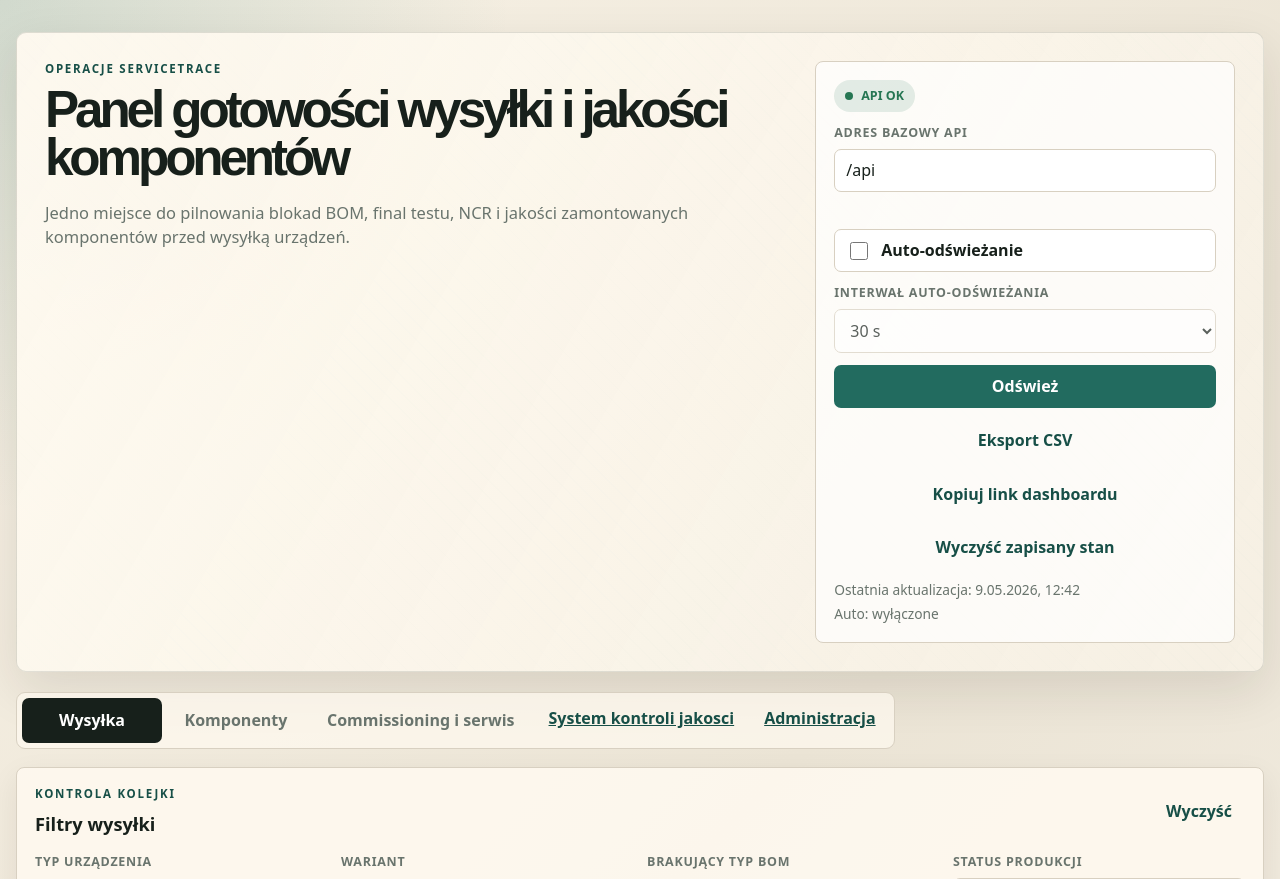
Test: App › exports the active shipment queue to CSV
Click the button "Eksport CSV": (1025, 441) [834,420,1216,462]
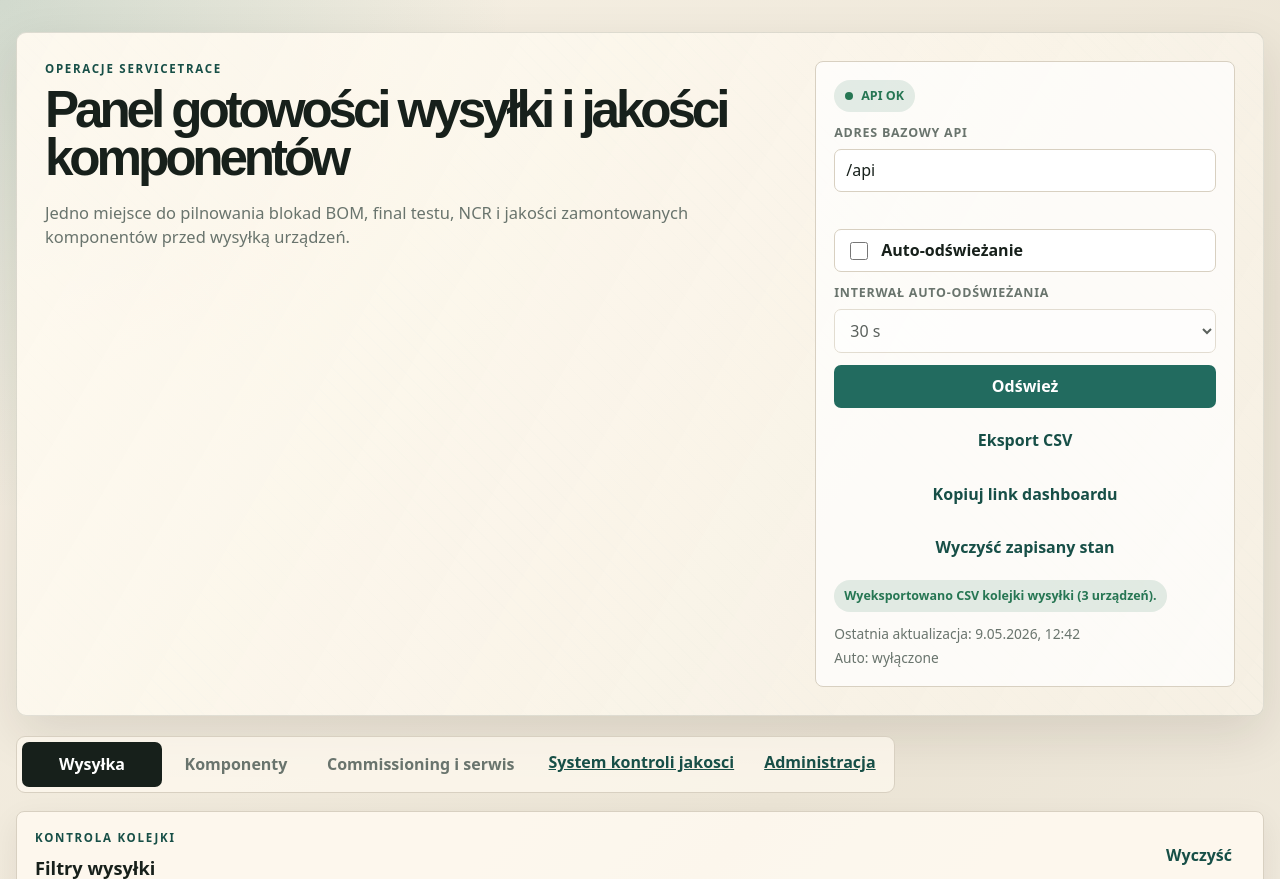
Now the message reads "Wyeksportowano CSV kolejki wysyłki (3 urządzeń).", box [844,587,1156,604]
